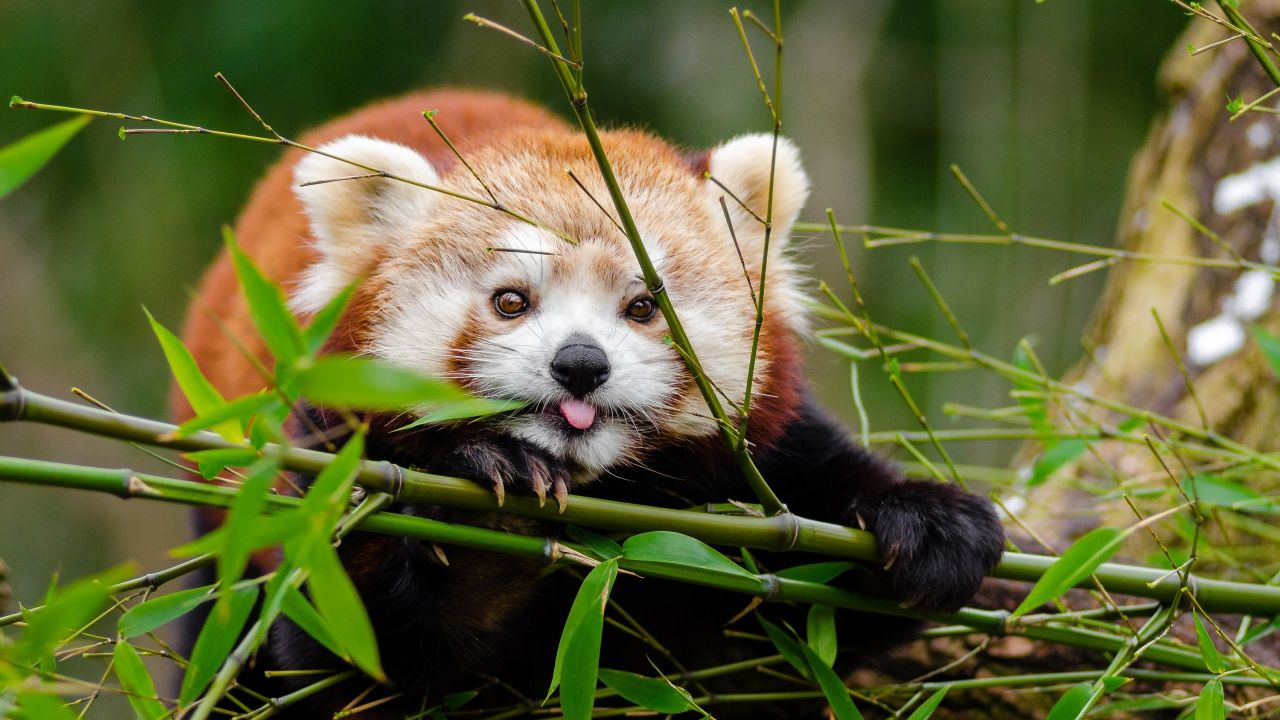Red panda: (292, 106, 810, 465)
